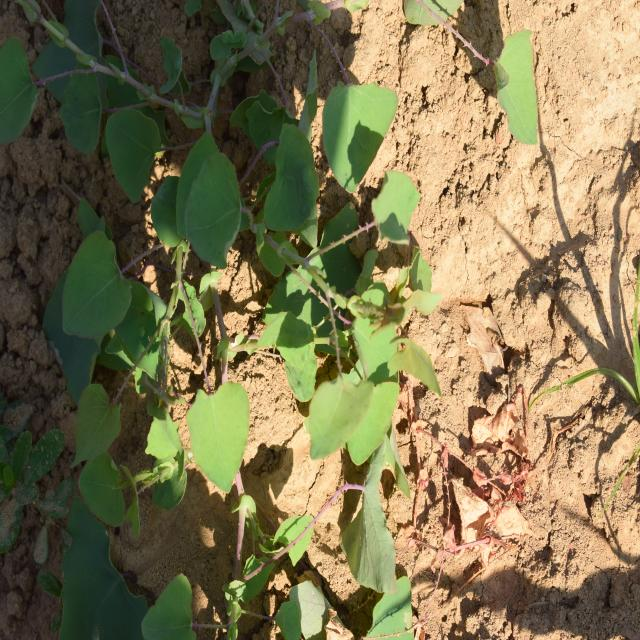Asiatic_Smartweed: (61, 115, 265, 487), (309, 169, 438, 478), (316, 72, 401, 190)
